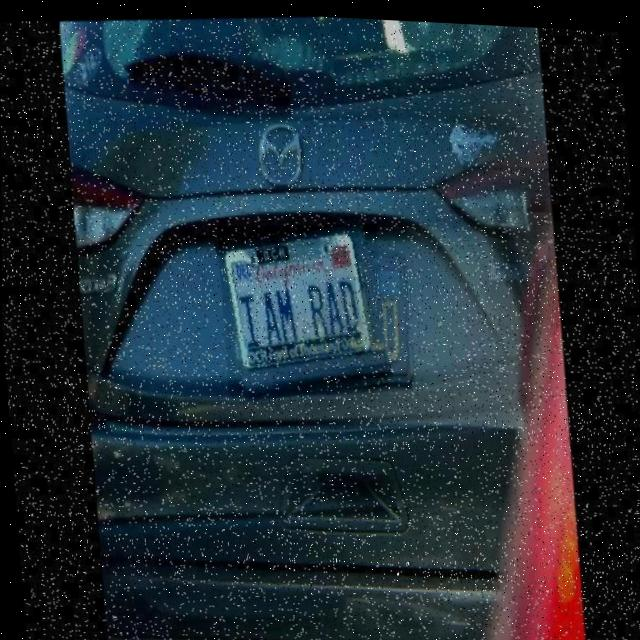LicensePlate: (216, 213, 389, 403)
